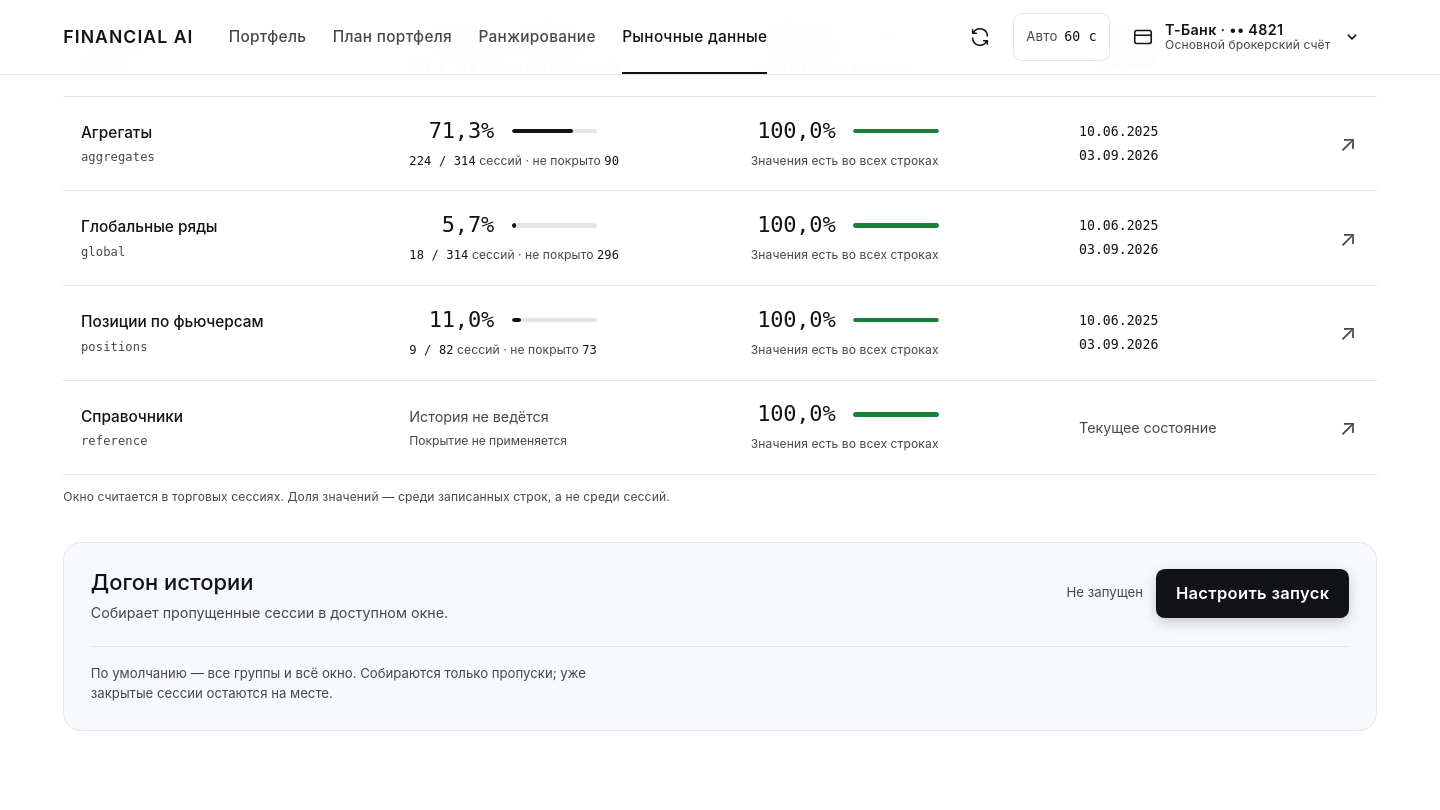
Test: отказы запуска › повторный запуск отклонён: счётчики идущего прогона сохранены
(page scrolled)
Click the button "Настроить запуск".
click(1253, 593)  # box [1156,569,1349,618]
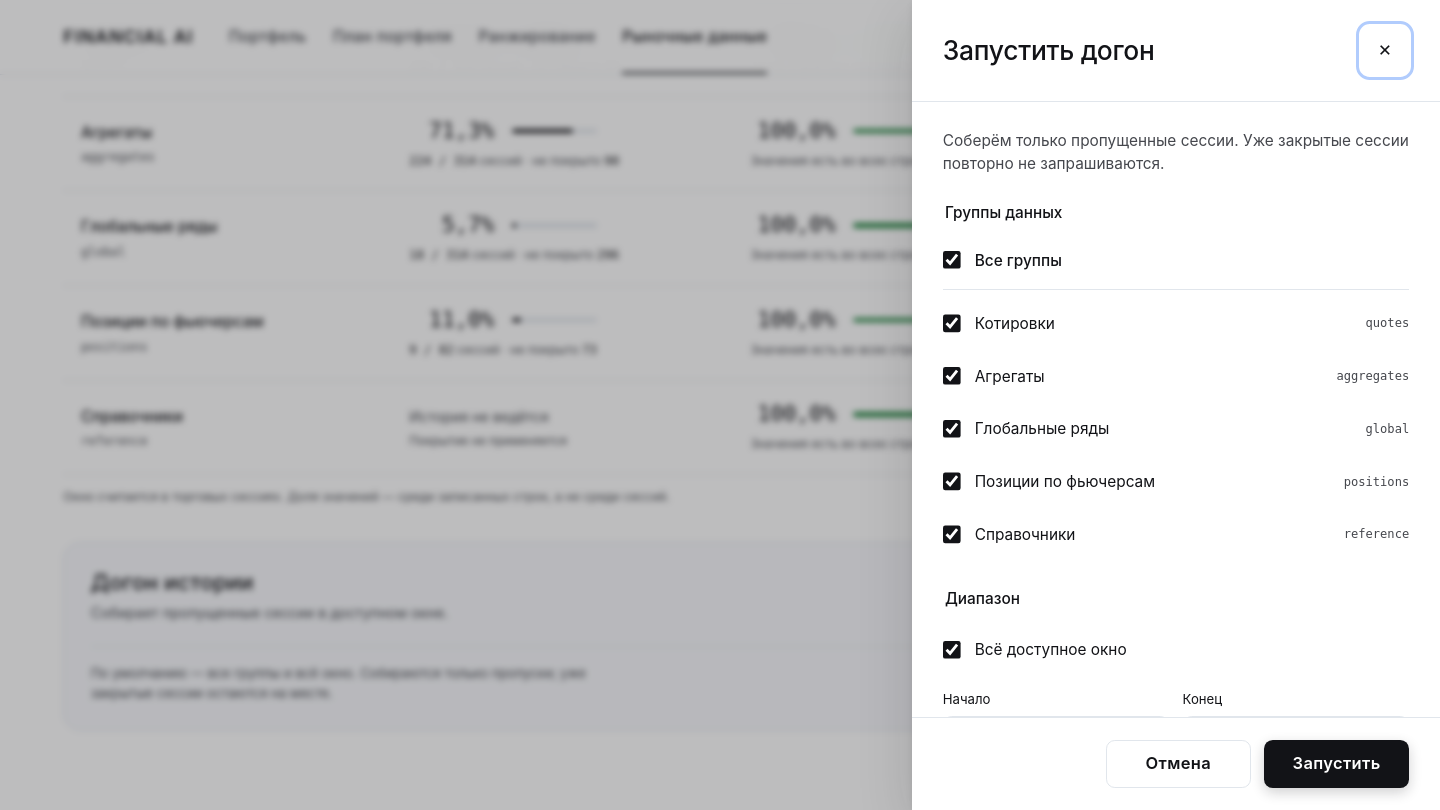
Click the button "Запустить".
click(1337, 764)  # box [1264,740,1409,788]
(page scrolled)
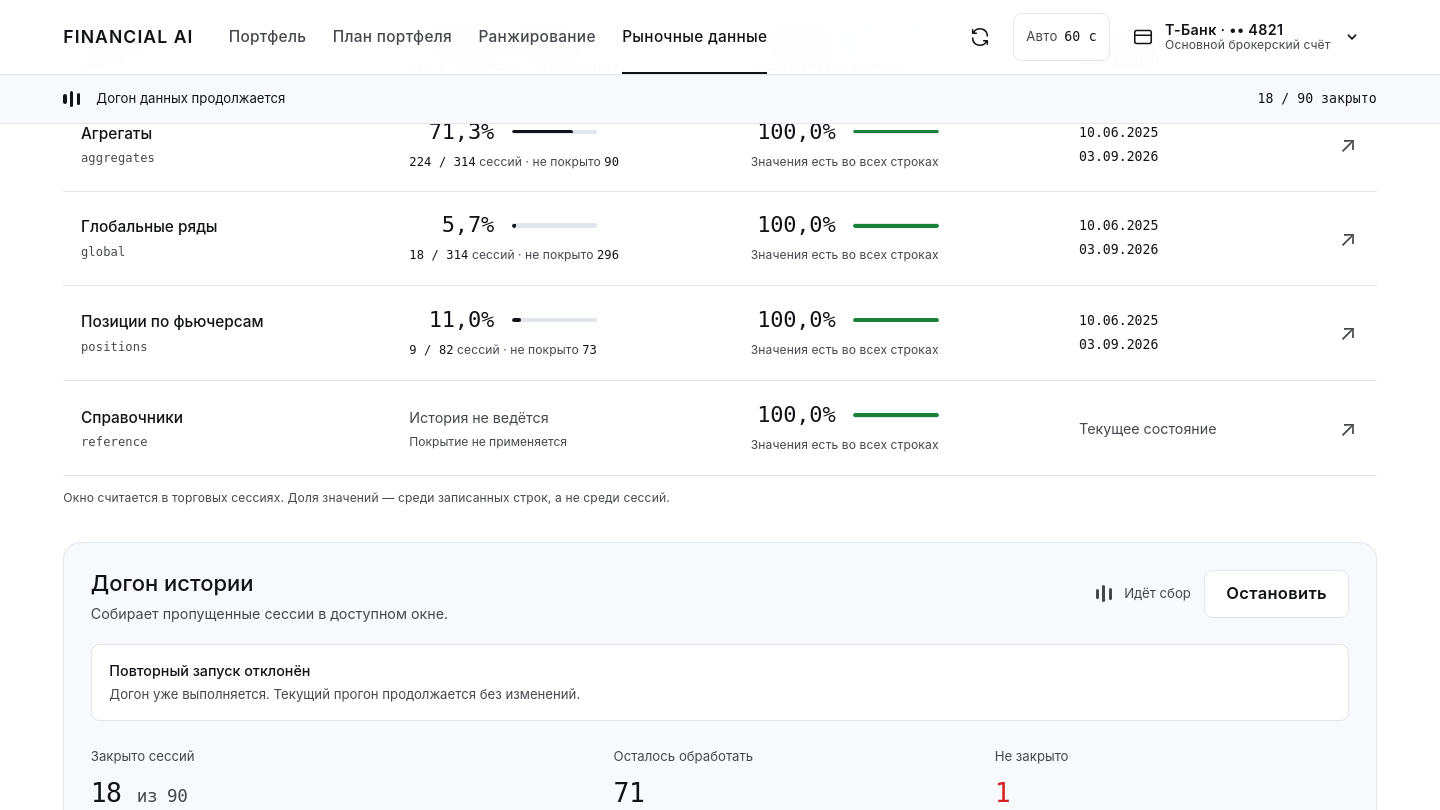
Check: the text "Догон уже выполняется" is shown, box [109,686,580,702]
Check: the text "Идёт сбор" is shown, box [1096,584,1191,604]
Check: the text "из 90" is shown, box [137,786,187,806]
